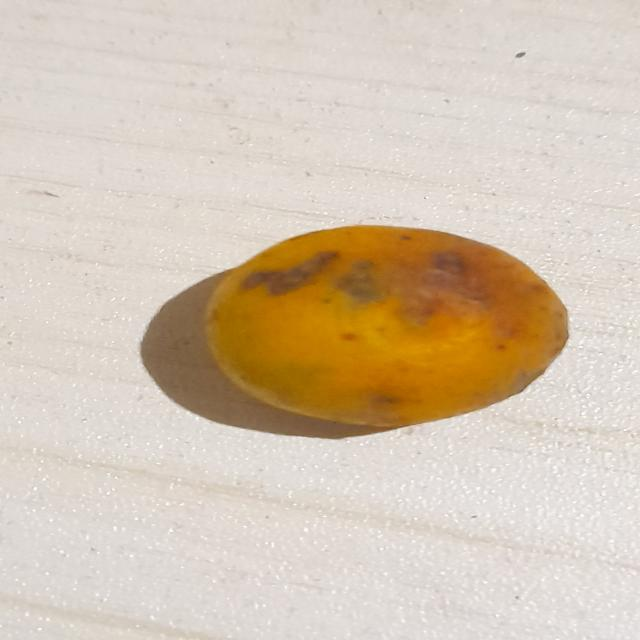black spot: (202, 220, 578, 435)
